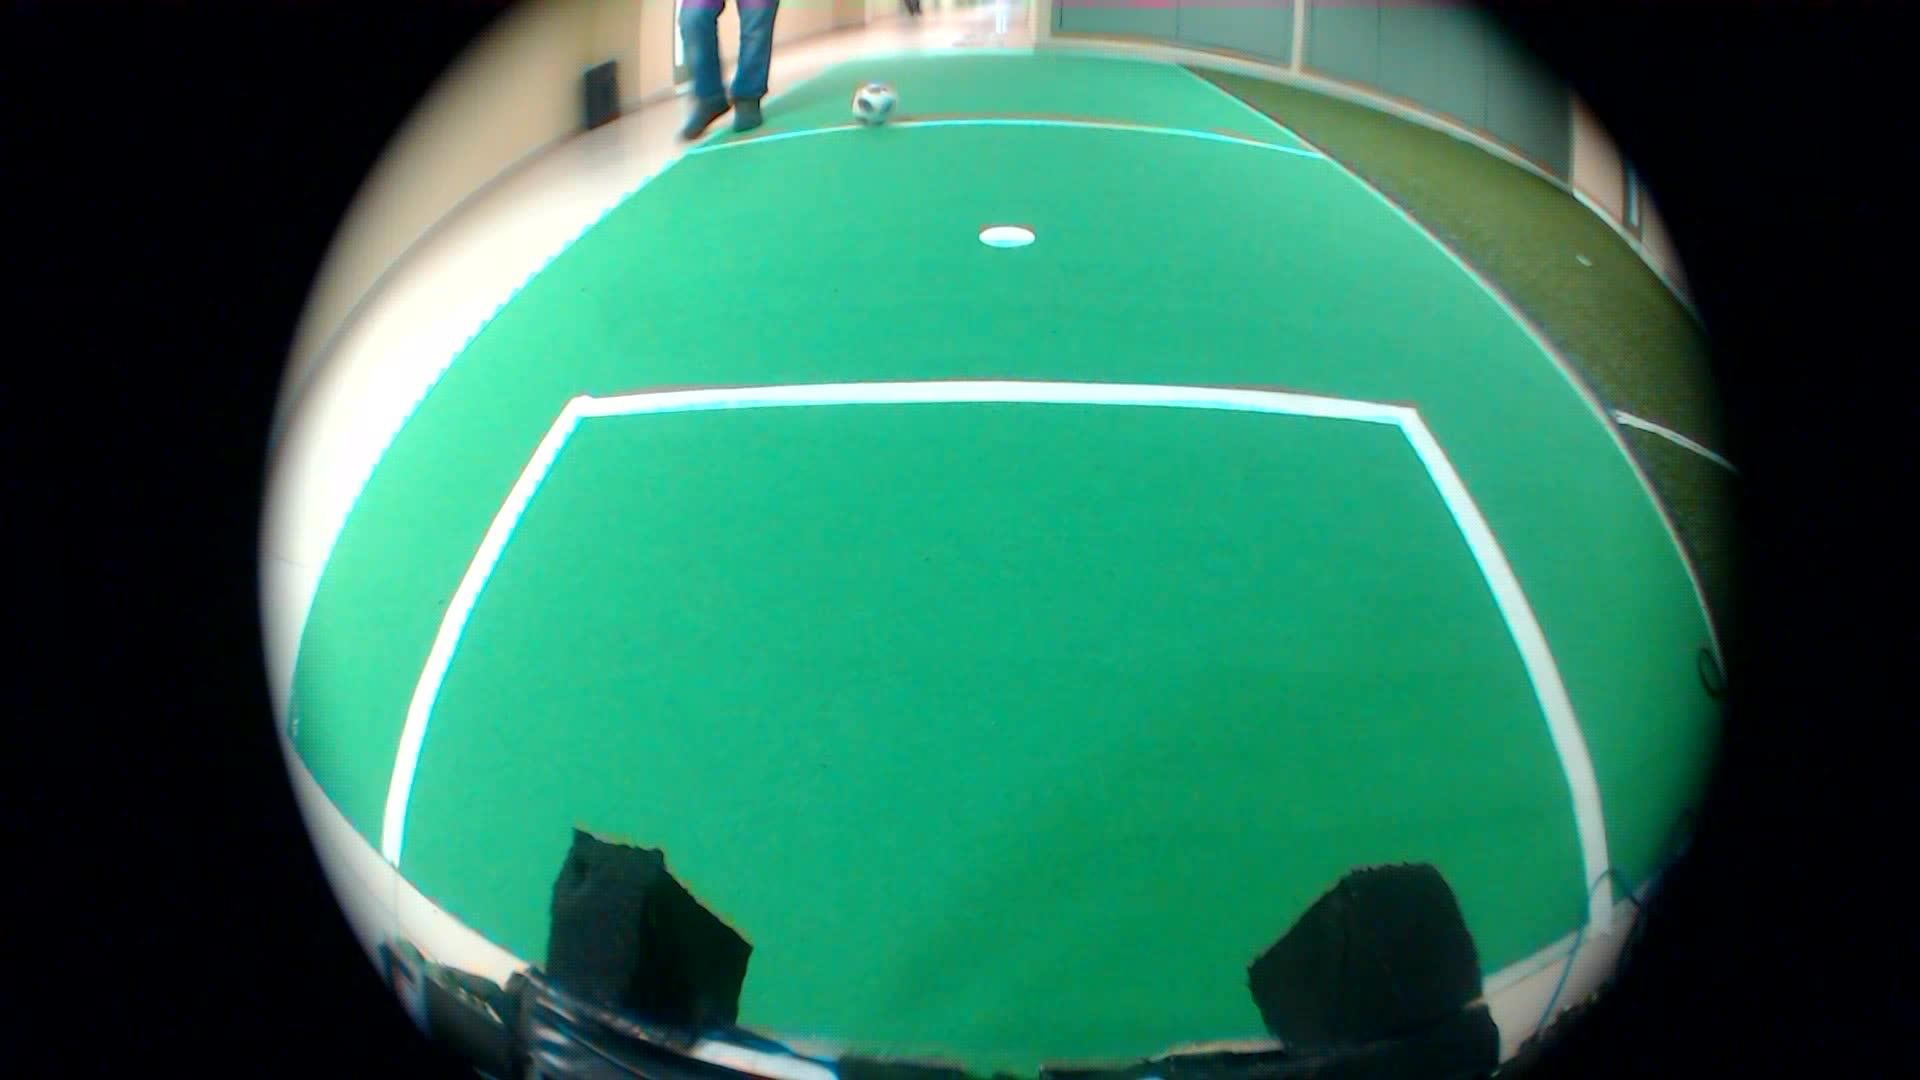ball: (837, 71, 893, 128)
